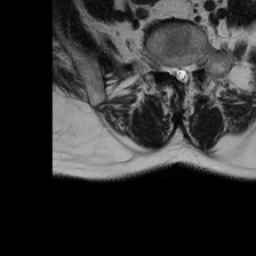CCS_stenosis: (179, 59, 186, 92)
LFS_normal: (190, 51, 198, 78)
LLS_normal: (186, 57, 192, 84)
RFS_stenosis: (164, 56, 172, 80)
RLS_normal: (172, 58, 179, 87)
